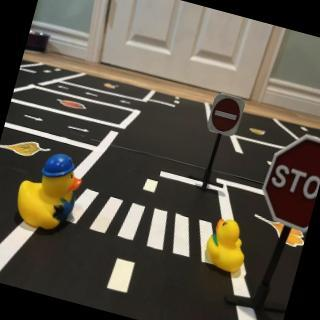duck_regular: (198, 212, 257, 279)
duck_specialty: (9, 144, 92, 240)
road_crosswalk: (58, 180, 231, 272)
road_oneway: (65, 121, 92, 137), (24, 112, 46, 124), (84, 88, 101, 101), (117, 98, 133, 109), (56, 84, 73, 93)
sign_noentry: (206, 91, 248, 142)
sign_stop: (254, 129, 320, 229)
